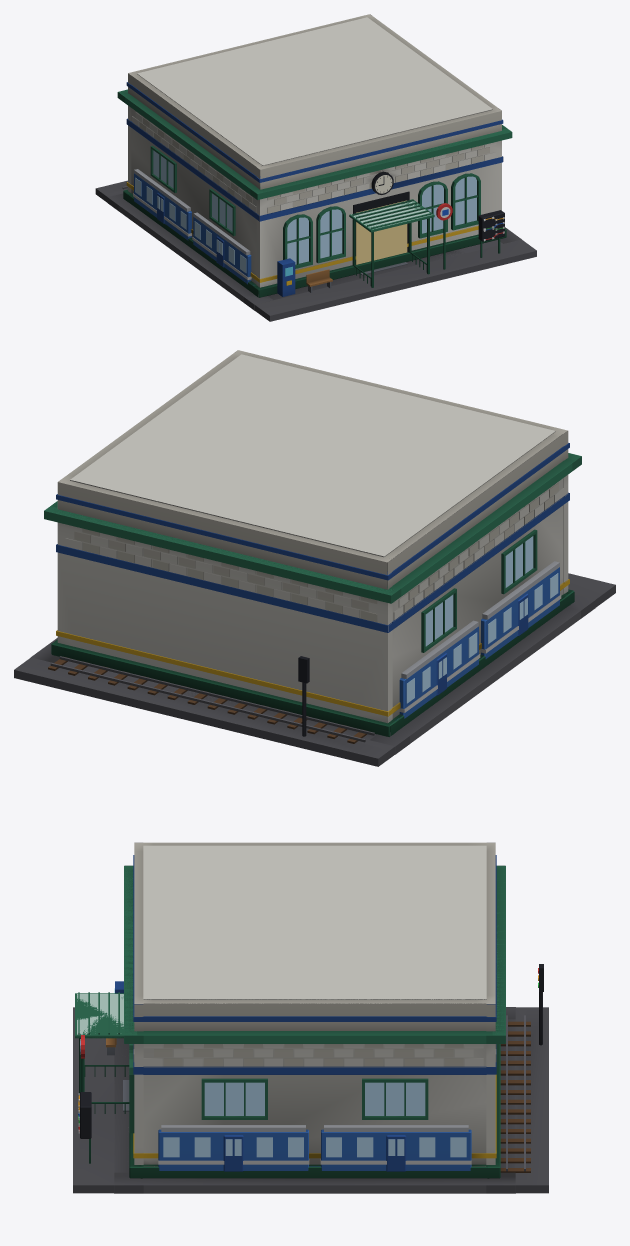
File: SubwaySnailFloor.fbx
3 renders of one model, top to bottom at view 1: azimuth 30°, elevation 25°; view 2: azimuth 150°, elevation 25°; view 3: azimuth 270°, elevation 25°, orthographic. The views are drawn at different scales.
Parts seen in each view (by area): view 1: SW_S_All, SW_F_Smooth, SW_F_Rings, SW_F_Quiet, SW_F_Glass, SW_F_Props; view 2: SW_S_All, SW_F_Rings, SW_F_Smooth, SW_F_Quiet, SW_F_Glass; view 3: SW_S_All, SW_F_Rings, SW_F_Quiet, SW_F_Smooth, SW_F_Glass, SW_F_Props.
Boxes of the visible parts, x1,y1,x2,y2 form: SW_S_All: (108,17,521,310); SW_F_Smooth: (95,82,536,321); SW_F_Rings: (118,74,506,297); SW_F_Quiet: (96,14,536,315); SW_F_Glass: (135,150,476,276); SW_F_Props: (277,171,478,296); SW_S_All: (30,354,594,754); SW_F_Rings: (46,431,581,736); SW_F_Smooth: (14,443,615,766); SW_F_Quiet: (14,350,615,758); SW_F_Glass: (406,536,558,703); SW_S_All: (75,845,515,1193); SW_F_Rings: (124,866,505,1177); SW_F_Quiet: (73,842,548,1185); SW_F_Smooth: (73,855,548,1193); SW_F_Glass: (77,968,538,1157); SW_F_Props: (115,964,543,1133).
Bounding box in the file's own units: 60 × 20 × 60.
